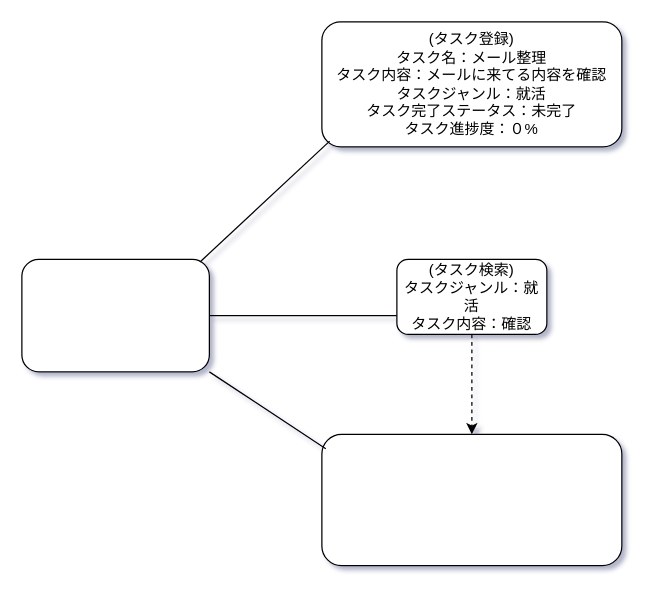
The diagram is 651 pixels wide and 595 high, and some of its shapes have lost their labels. The box of each missing label's shape, as (x1, y1, x2, y2) in pixels:
(タスク編集) タスク名：メール整理 タスク内容：メールに来た就活関連を確認 タスクジャンル：就活 タスク完了ステータス：未完了 タスク進捗度：20%: (321, 433, 622, 566)
(ユーザ ) アカウント名： すもも メールアドレス：exam@gmail.com: (21, 258, 209, 372)
